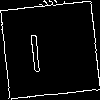I: (25, 25, 43, 72)
